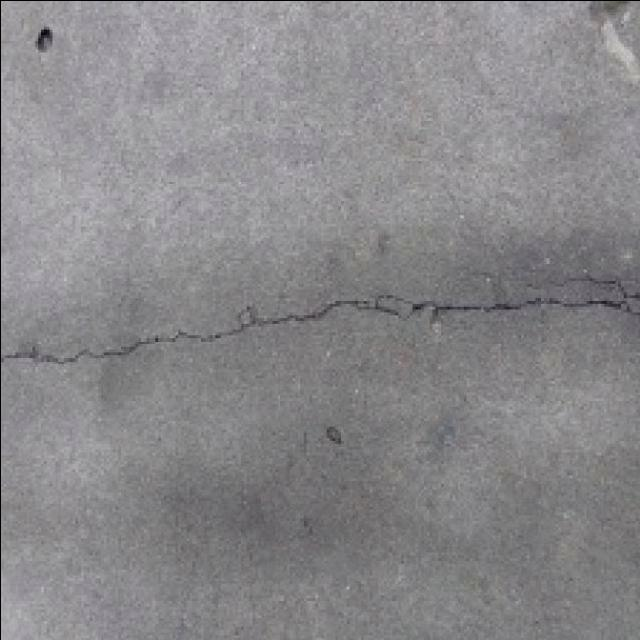SurfaceCrack: (0, 248, 638, 390)
